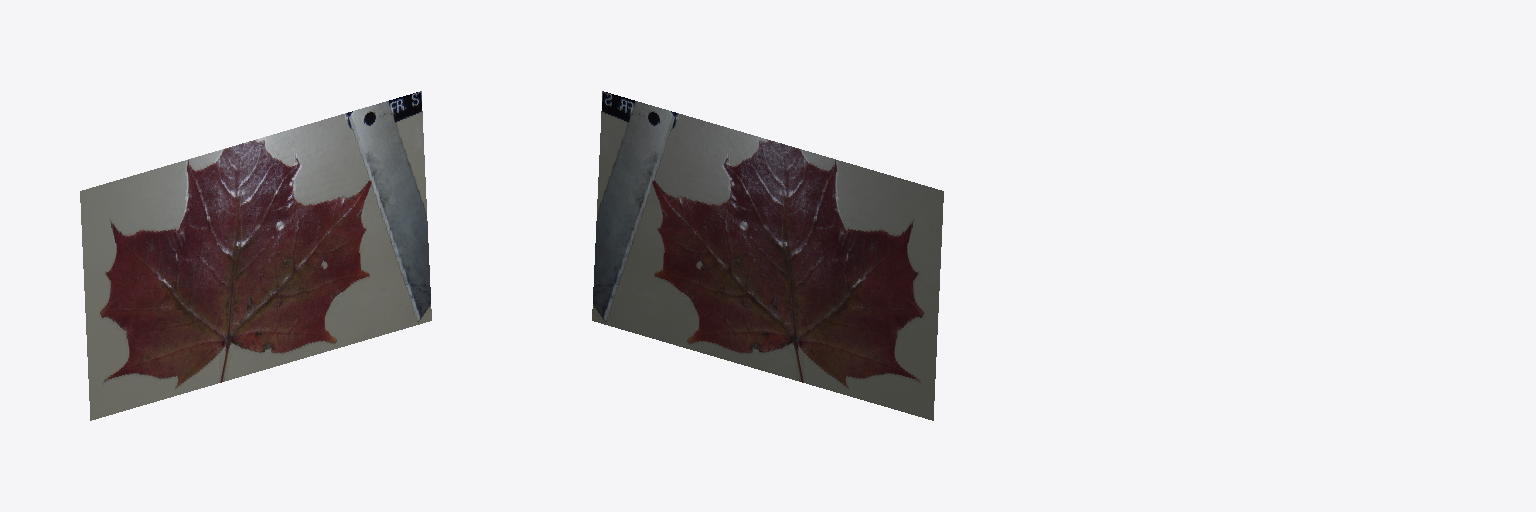
3 renders of one model, left to right at view 1: azimuth 30°, elevation 25°; view 2: azimuth 150°, elevation 25°; view 3: azimuth 270°, elevation 25°, orthographic.
Parts seen in each view (by area): view 1: Plane.005; view 2: Plane.005; view 3: none.
Part boxes in pixels (bbox=[...]): Plane.005: bbox=[80, 91, 431, 420]; Plane.005: bbox=[592, 91, 943, 420].
Bounding box in the file's own units: 2.06 × 1.39 × 0.
Materials: 1 (1 with a texture image).